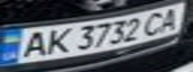2: (121, 15, 148, 43)
3: (72, 22, 96, 52), (109, 18, 130, 46)
7: (93, 20, 115, 48)
A: (15, 29, 51, 60), (154, 6, 187, 34)
C: (139, 9, 169, 37)
K: (39, 26, 72, 56)
